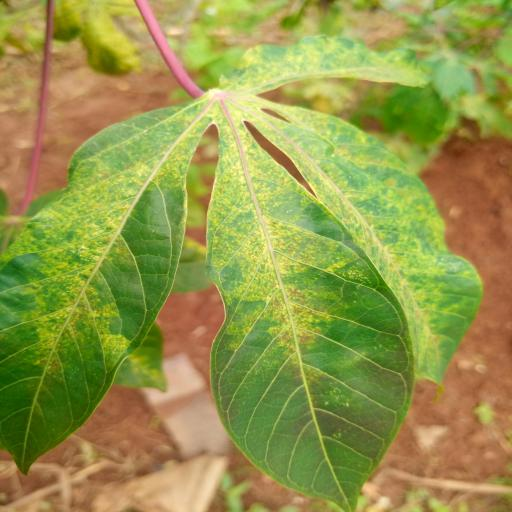Cassava_Mosaic: (0, 38, 512, 512)
